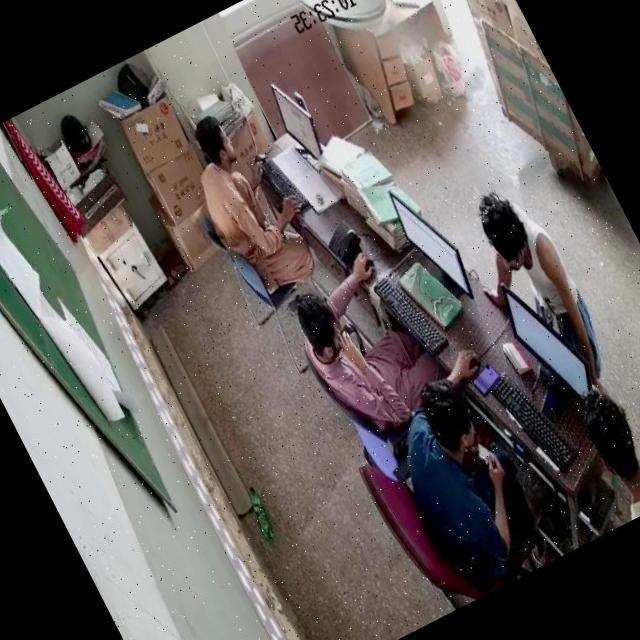person: (374, 364, 542, 575), (478, 176, 611, 372), (286, 271, 435, 441), (180, 112, 304, 286), (555, 382, 640, 529)
